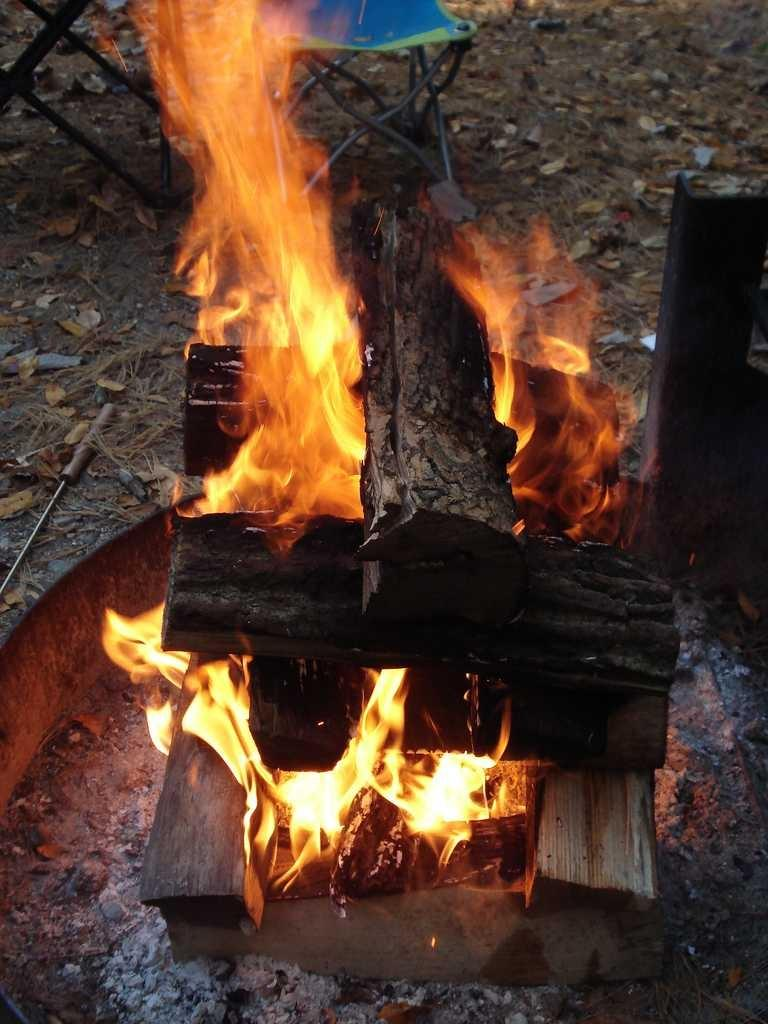fire: (155, 10, 312, 240), (245, 268, 368, 518), (275, 760, 515, 880), (478, 250, 592, 480)
